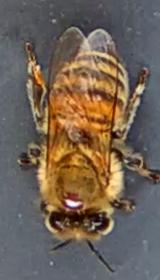varroa_mite: (56, 184, 88, 214)
